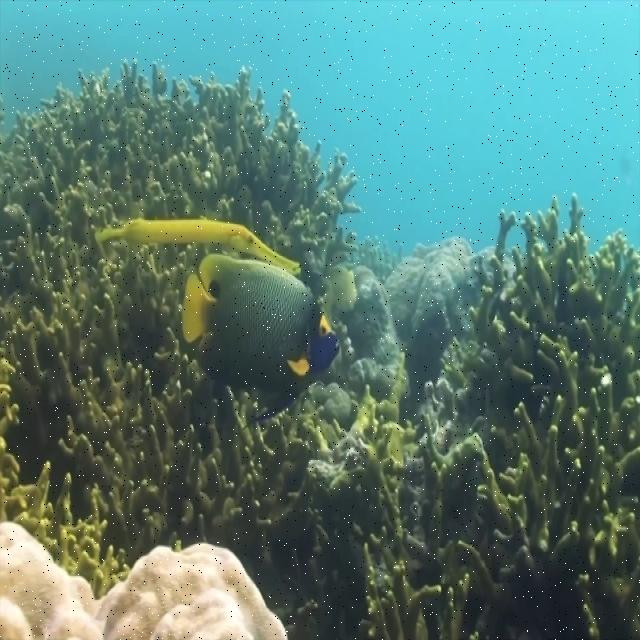fish: (182, 253, 341, 427), (93, 218, 301, 273)
reefs: (2, 60, 362, 564), (420, 191, 638, 637), (0, 520, 288, 639), (350, 402, 470, 639), (1, 388, 130, 594)
